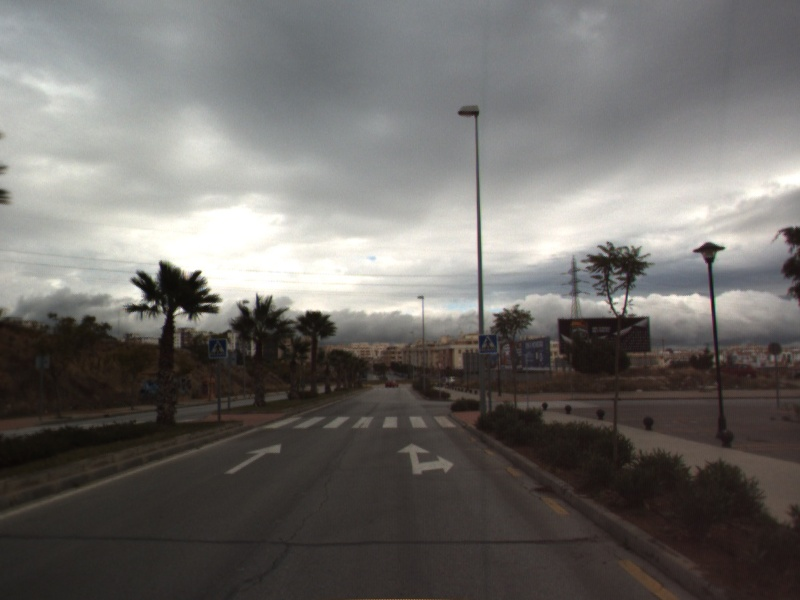STRAIGHT: (222, 442, 282, 476)
STRAIGHT_RIGHT: (395, 441, 456, 477)
